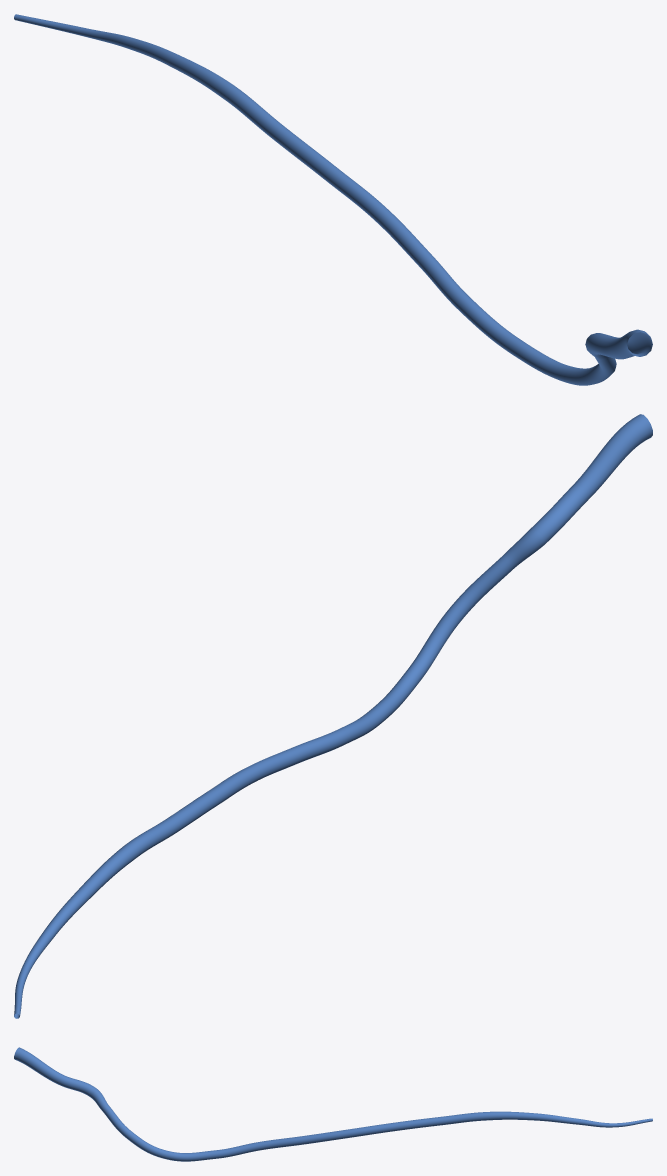
3 renders of one model, top to bottom at view 1: azimuth 30°, elevation 25°; view 2: azimuth 150°, elevation 25°; view 3: azimuth 270°, elevation 25°, orthographic. The views are drawn at different scales.
Parts seen in each view (by area): view 1: 左侧胫前静脉; view 2: 左侧胫前静脉; view 3: 左侧胫前静脉.
Part boxes in pixels (box(x1,y1,x2,y2)): 左侧胫前静脉: box(14, 14, 652, 385); 左侧胫前静脉: box(14, 414, 652, 1018); 左侧胫前静脉: box(14, 1047, 652, 1161).
Bounding box in the file's own units: 0.0395 × 0.0696 × 0.4292.
